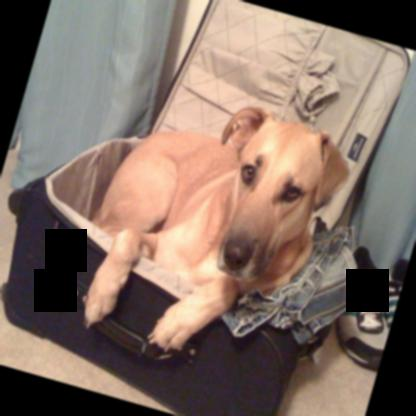suitcase: (0, 0, 408, 416)
